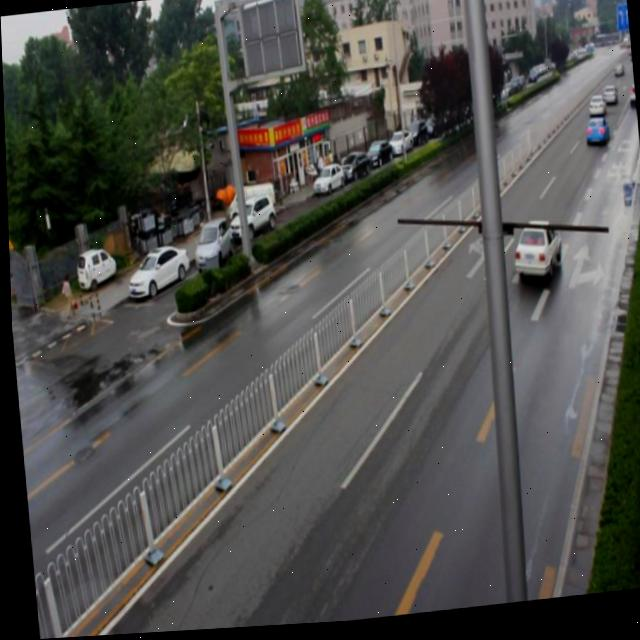car: (508, 222, 561, 289), (582, 124, 607, 152)
